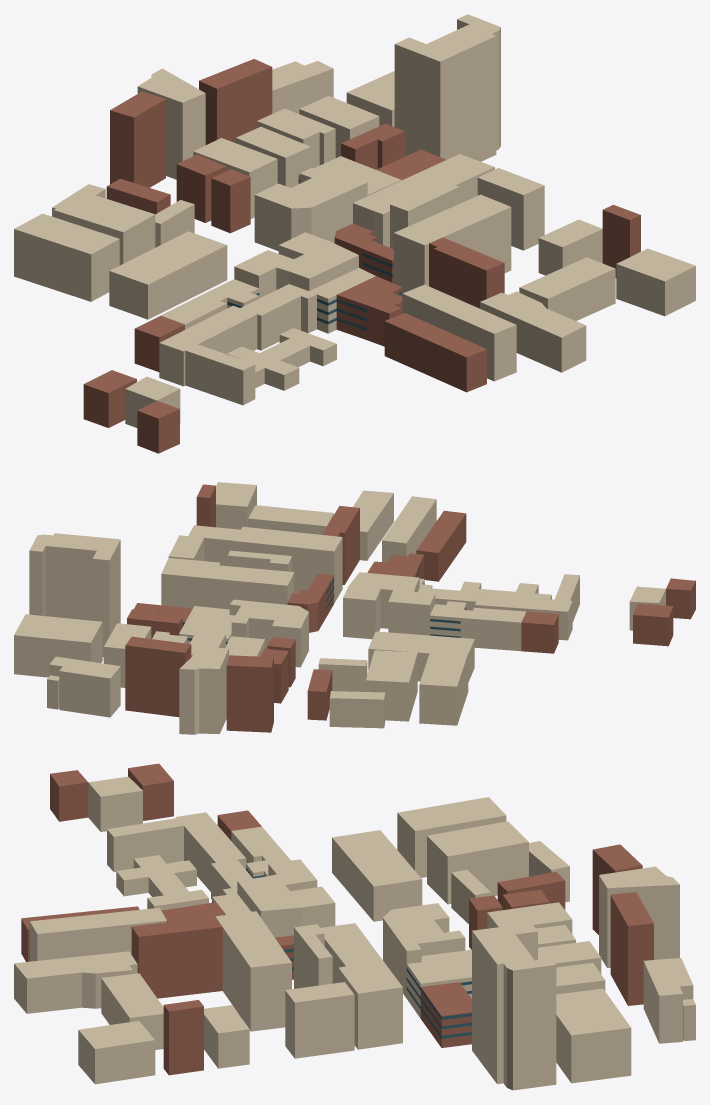
Rendered from city_-2_-3.glb.
The picture shows the model from 3 angles, top to bottom: view 1: azimuth 30°, elevation 25°; view 2: azimuth 150°, elevation 25°; view 3: azimuth 270°, elevation 25°; orthographic projection. The views are drawn at different scales.
Visible parts, largest first — view 1: city_-2_-3; view 2: city_-2_-3; view 3: city_-2_-3.
Part boxes in pixels (x1,y1,x2,y2): city_-2_-3: (14, 14, 695, 453); city_-2_-3: (14, 482, 695, 734); city_-2_-3: (14, 763, 695, 1090).
Size of the model in its own units: 266 by 51 by 263.
